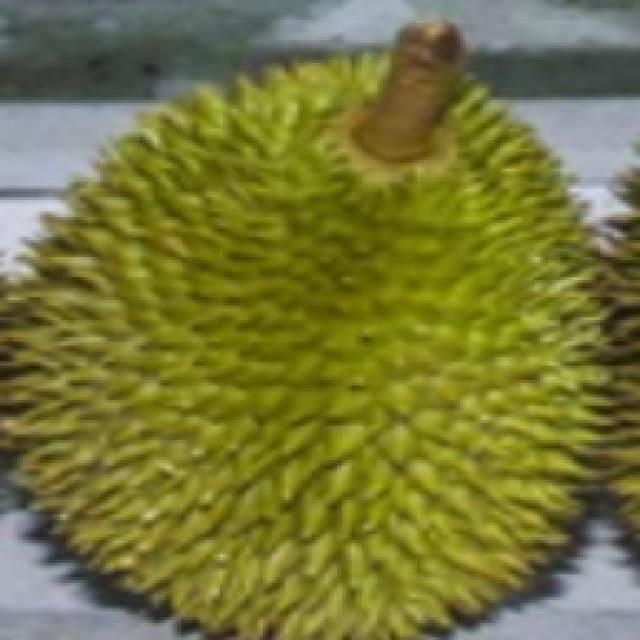d197: (7, 22, 613, 635)
